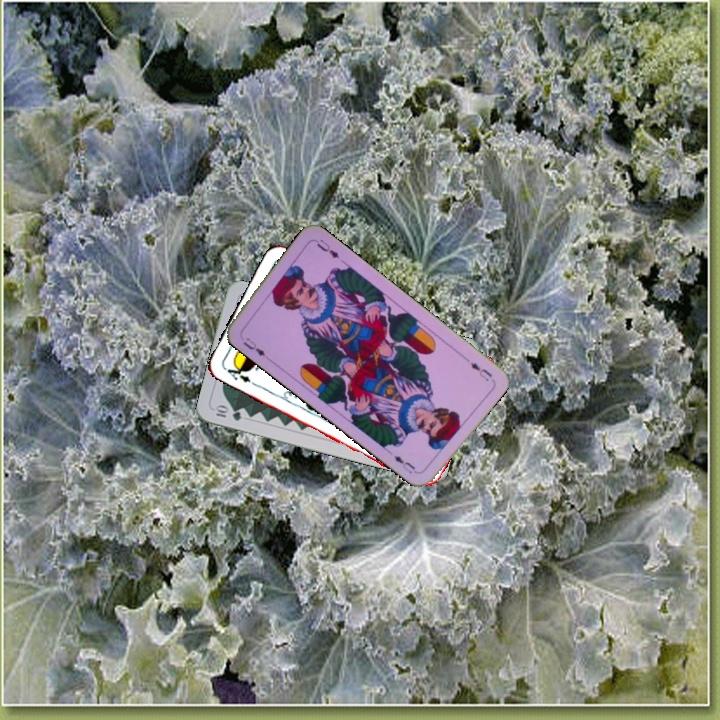EA: (220, 360, 258, 388)
EU: (237, 332, 268, 359), (466, 358, 495, 384)
G10: (210, 402, 245, 423)
